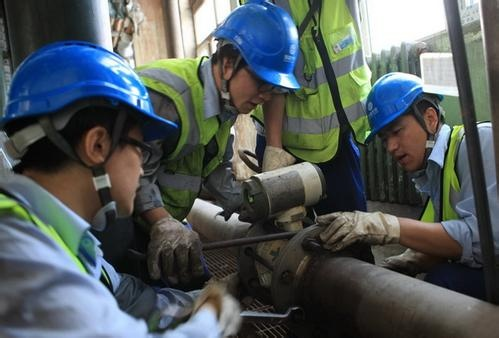blue: (8, 40, 161, 217), (210, 1, 303, 114), (363, 71, 449, 172)
